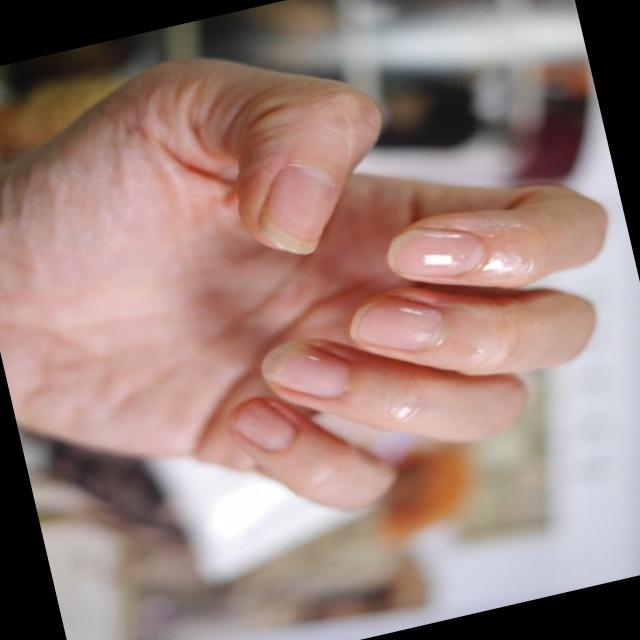Nail: (258, 163, 338, 254), (349, 296, 443, 351), (260, 341, 347, 398), (385, 228, 481, 278), (231, 398, 293, 450)
